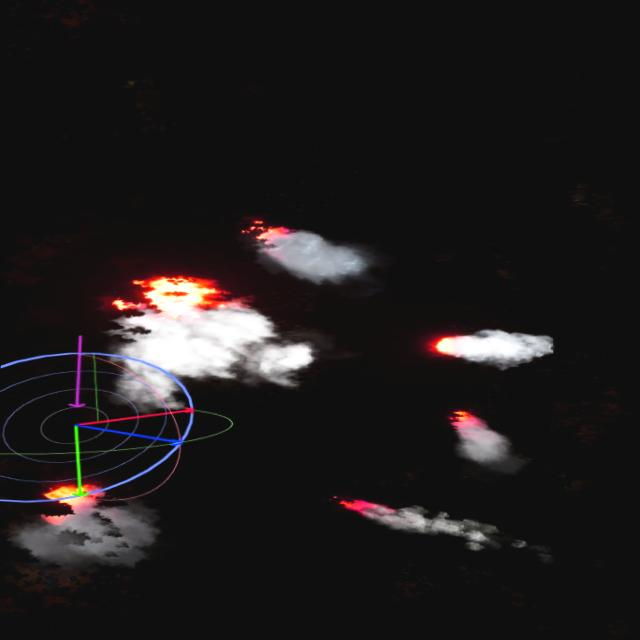fire: (106, 274, 230, 320), (31, 482, 104, 524), (244, 218, 290, 246), (422, 335, 472, 360), (336, 497, 386, 518), (446, 407, 482, 428)
smoke: (100, 306, 308, 412), (6, 504, 175, 568), (384, 503, 530, 552), (262, 232, 374, 288), (442, 423, 518, 468), (463, 329, 550, 368)
